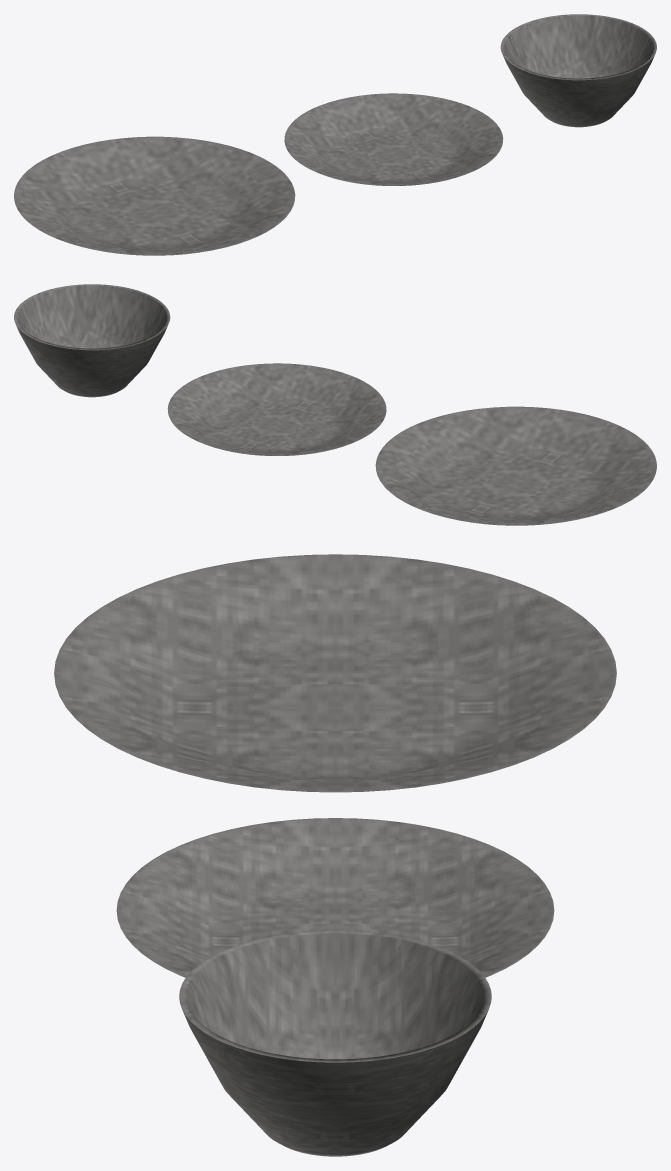
Rendered from GRL-02.glb.
3 renders of one model, top to bottom at view 1: azimuth 30°, elevation 25°; view 2: azimuth 150°, elevation 25°; view 3: azimuth 270°, elevation 25°, orthographic. The views are drawn at different scales.
Size of the model in its own units: 0.68 by 0.07 by 0.27.
6 materials, 6 textured.
